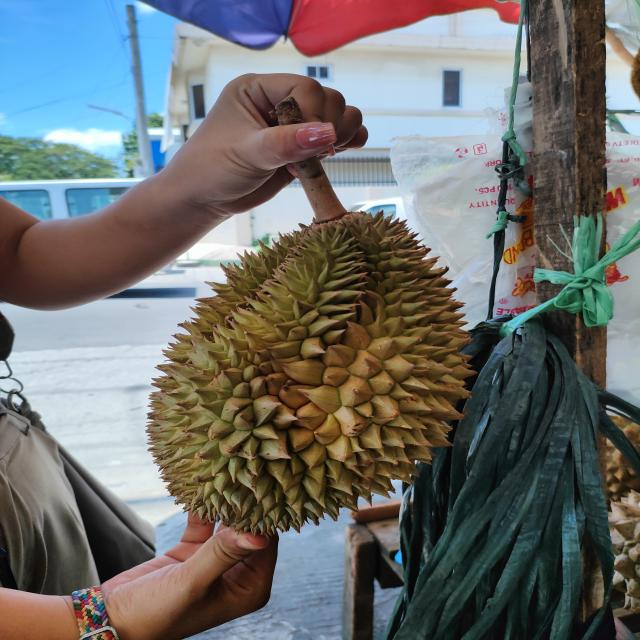mature: (146, 205, 474, 530)
